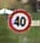limite 40: (7, 6, 31, 34)
